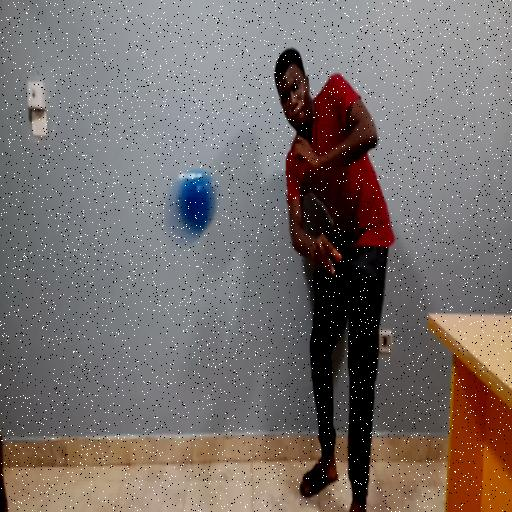plastic-ball: (163, 165, 219, 252)
